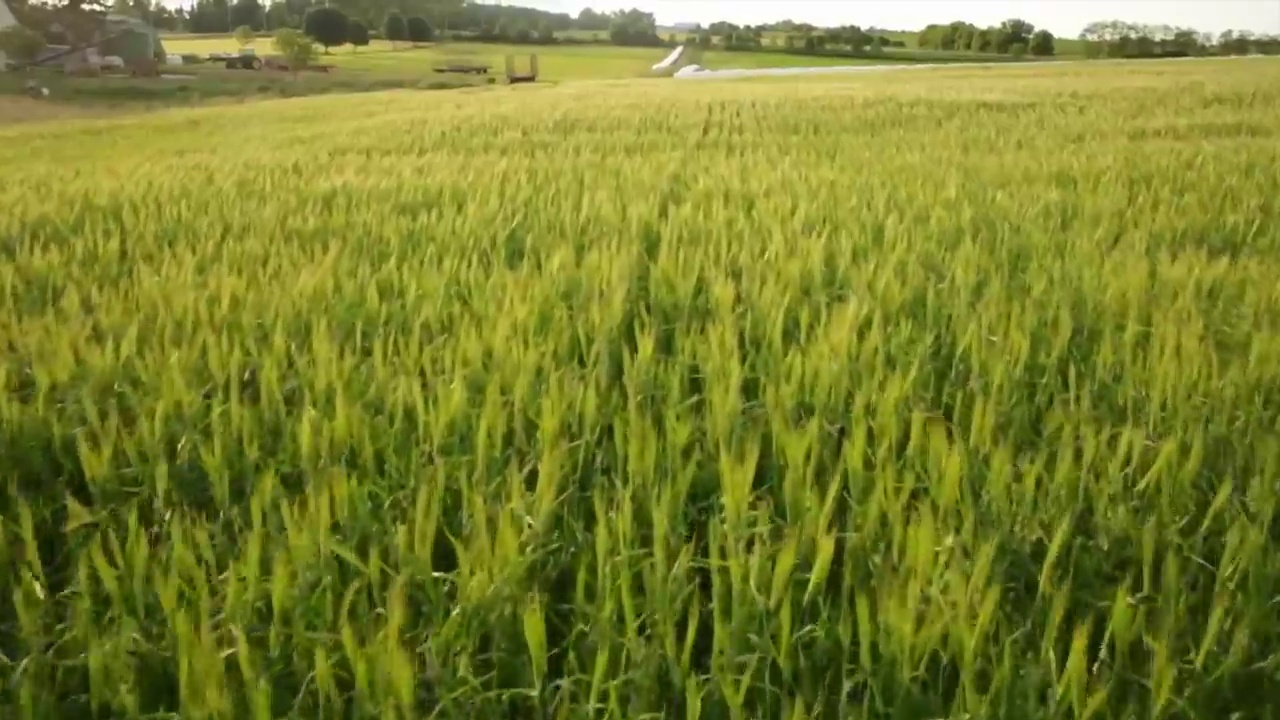Wheat: (904, 184, 1161, 479)
